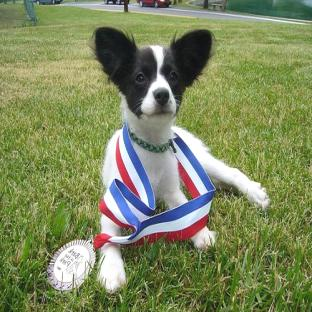Animal: (95, 27, 212, 207), (175, 127, 269, 208), (99, 243, 126, 292), (103, 131, 121, 186), (192, 226, 215, 249)
